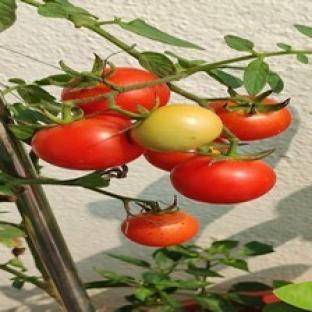Tomato: (31, 116, 144, 169), (170, 156, 275, 203), (131, 105, 222, 151), (209, 101, 292, 140), (122, 211, 199, 246), (115, 84, 169, 112), (144, 151, 196, 171), (262, 293, 281, 303)
